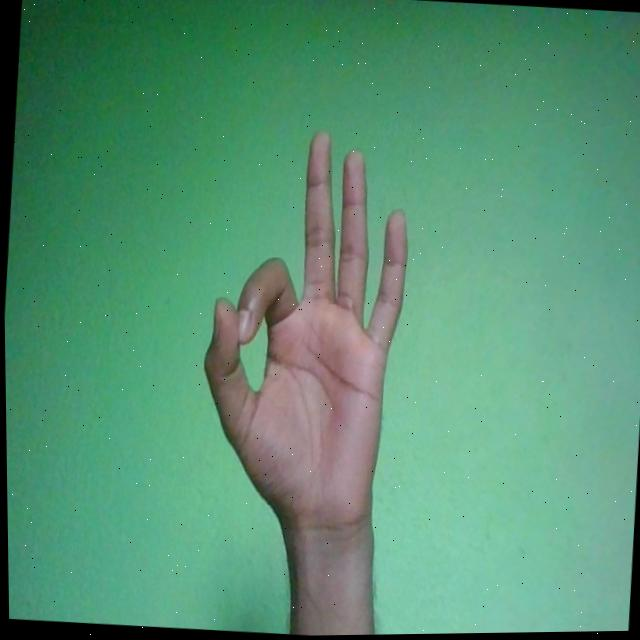Ok: (188, 123, 417, 545)
